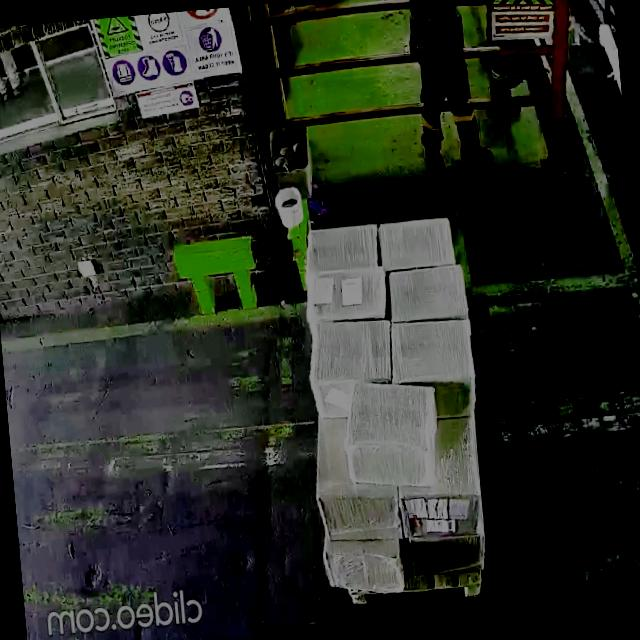Box: (336, 386, 449, 488), (304, 316, 394, 389), (390, 314, 476, 388), (384, 266, 468, 321), (317, 481, 400, 536), (402, 481, 484, 536), (307, 268, 389, 322), (382, 214, 456, 273), (303, 220, 382, 272), (326, 540, 401, 591), (408, 532, 488, 574)
